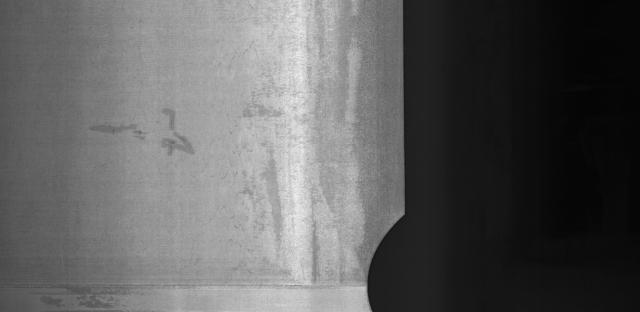crescent_gap: (347, 200, 421, 312)
